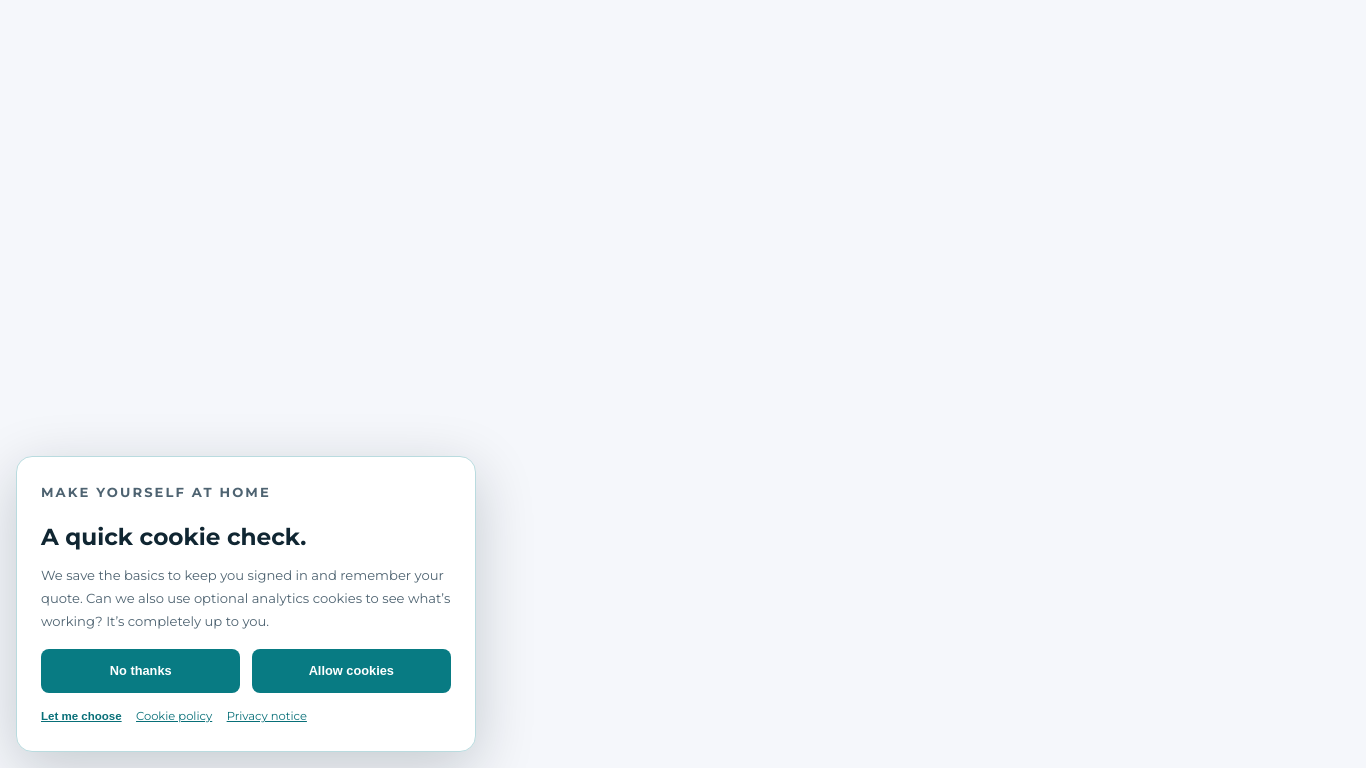
Test: loads analytics after opt-in and disables it after withdrawal
The width and height of the screenshot is (1366, 768).
Later steps or results of the test are not shown.
Click the button "Allow cookies". click: [351, 671]
box: [252,649,451,693]
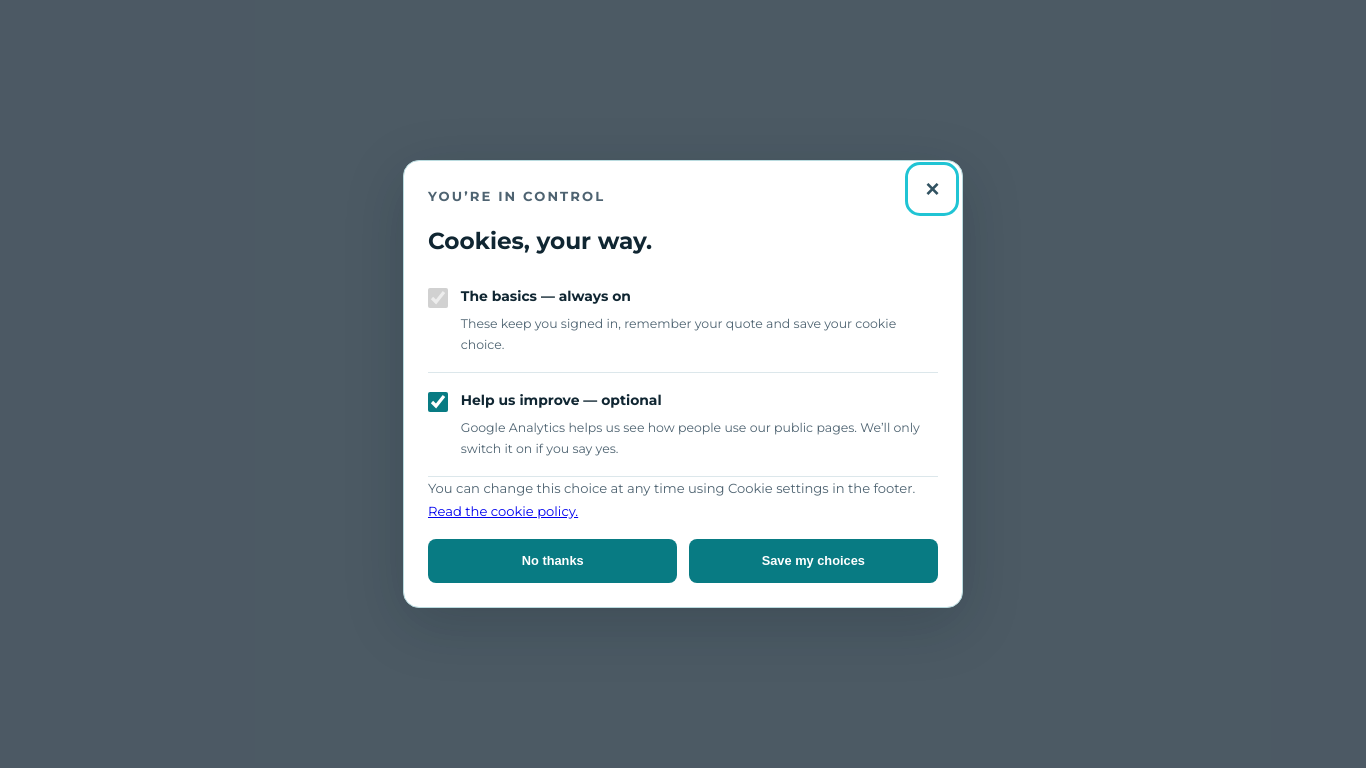
Now the dialog is shown, box [403,160,963,608]
